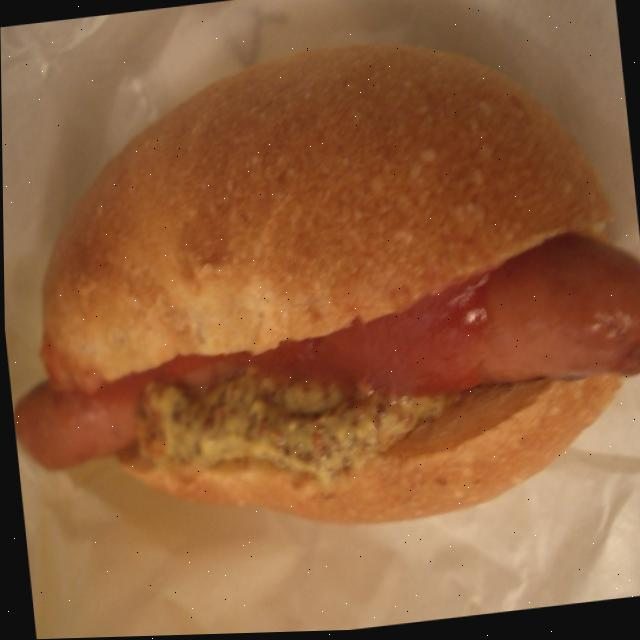汉堡快餐: (0, 0, 640, 587)
